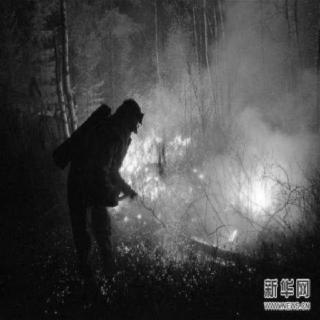Fire: (211, 147, 273, 245)
